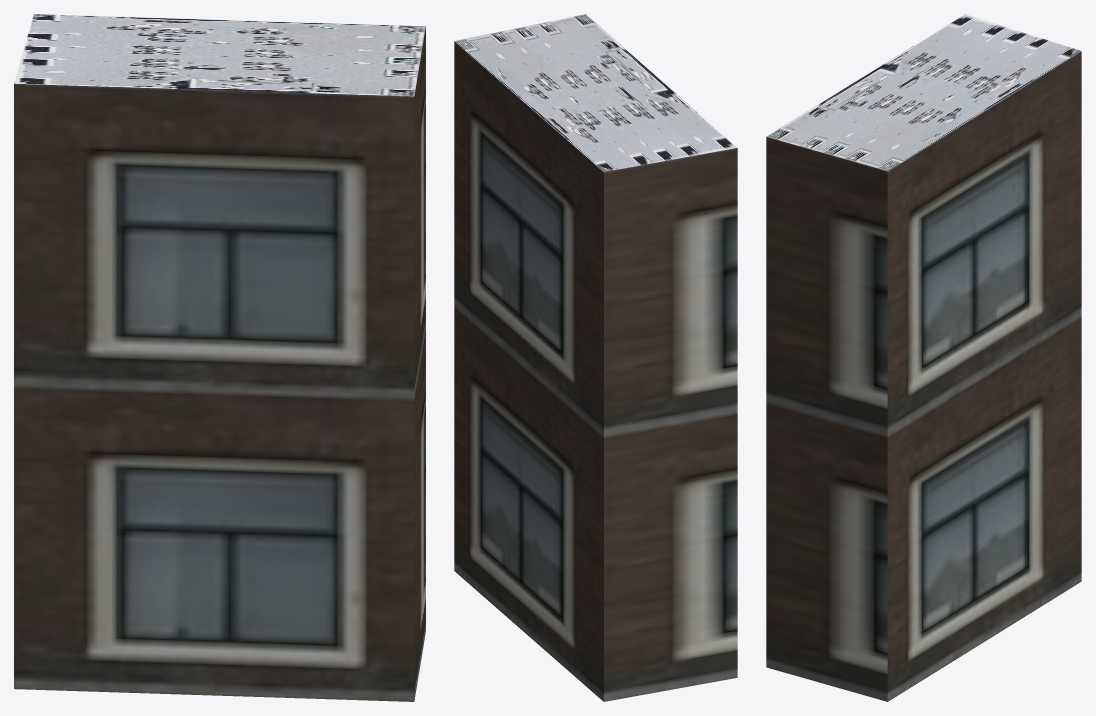
File: ResTex__4458.fbx
3 views of the same model, side by side, from view 1: azimuth 30°, elevation 25°; view 2: azimuth 150°, elevation 25°; view 3: azimuth 270°, elevation 25° (orthographic). The views are drawn at different scales.
Visible parts, largest first — view 1: CityEngineMaterial_16_m, CityEngineMaterial_15_m; view 2: CityEngineMaterial_16_m, CityEngineMaterial_15_m; view 3: CityEngineMaterial_16_m, CityEngineMaterial_15_m.
Boxes of the visible parts, left/top/right/bottom form: CityEngineMaterial_16_m: left=14, top=27, right=425, bottom=701; CityEngineMaterial_15_m: left=14, top=14, right=425, bottom=96; CityEngineMaterial_16_m: left=454, top=41, right=737, bottom=701; CityEngineMaterial_15_m: left=454, top=14, right=737, bottom=171; CityEngineMaterial_16_m: left=766, top=51, right=1081, bottom=701; CityEngineMaterial_15_m: left=766, top=14, right=1080, bottom=171.
Size of the model in its own units: 3.81 by 6 by 3.23.
Materials: 2 (2 with a texture image).
